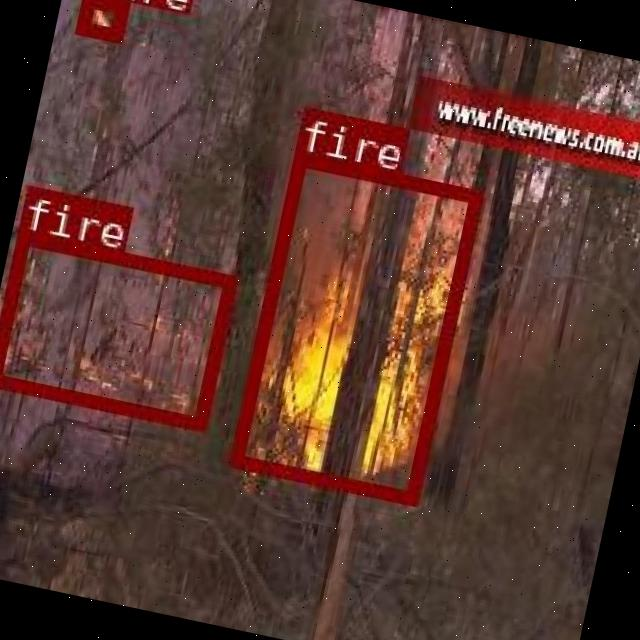fire: (228, 149, 480, 503), (0, 227, 234, 428), (73, 0, 127, 40)
